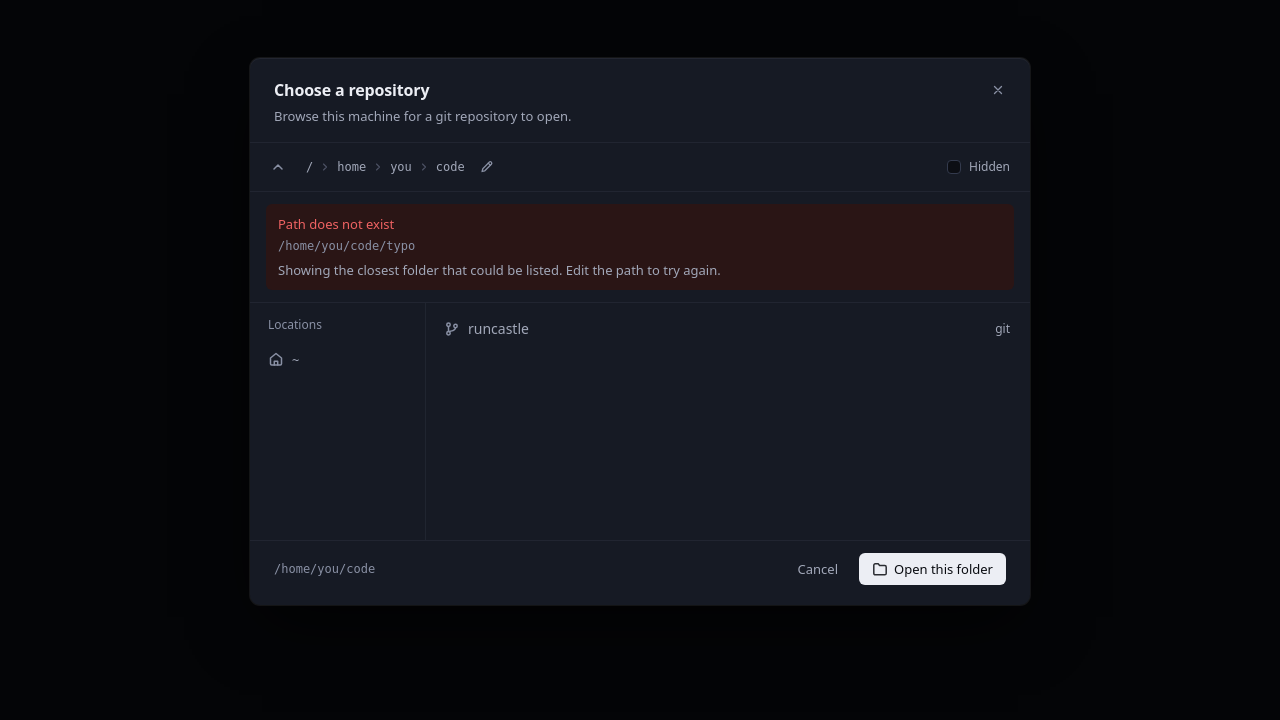
it: DirectoryPicker › walks up to the nearest listable ancestor and keeps what was typed
Expected: the button "runcastle git" is shown, 434,311 -> 1022,347
Expected: the element named "Current path" shows "code", 432,157 -> 469,177
What coordinates should you click on to do the following:
click the button named "Edit path"
I would click on:
 (487, 167)
Its box is 475,155 -> 499,179.
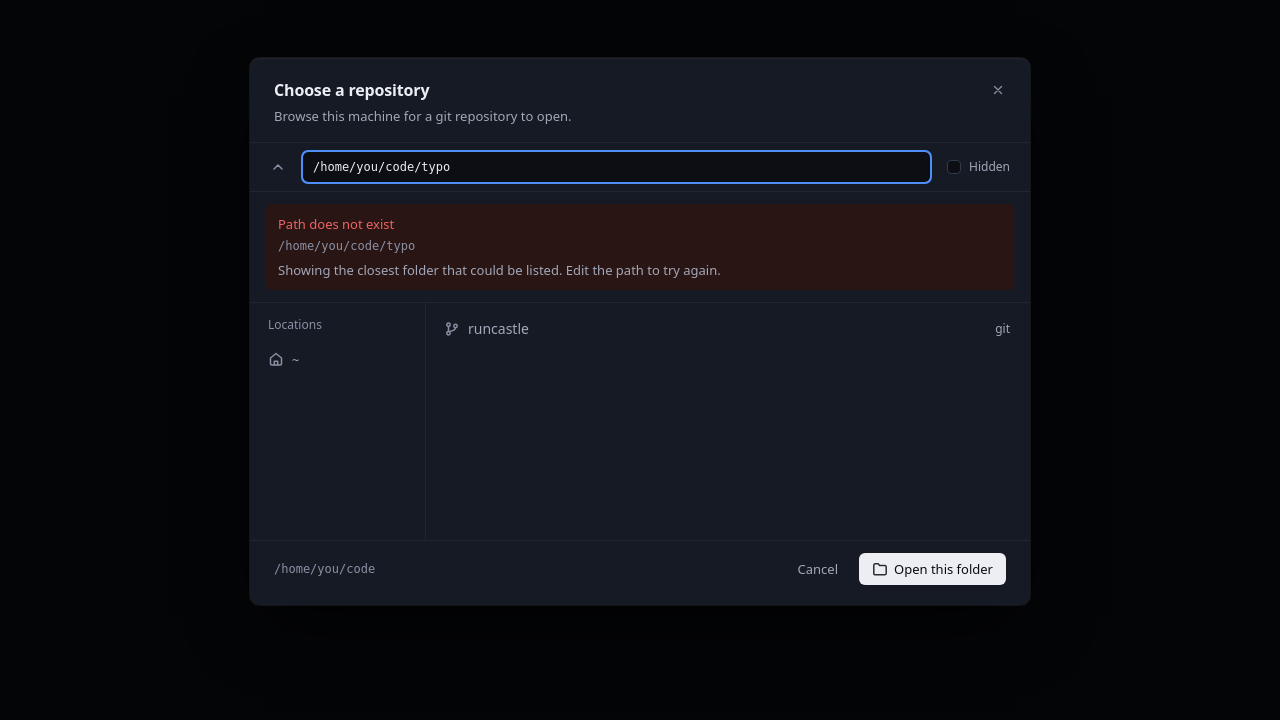
Expected: the field named "path" holds "/home/you/code/typo", 302,151 -> 931,183
